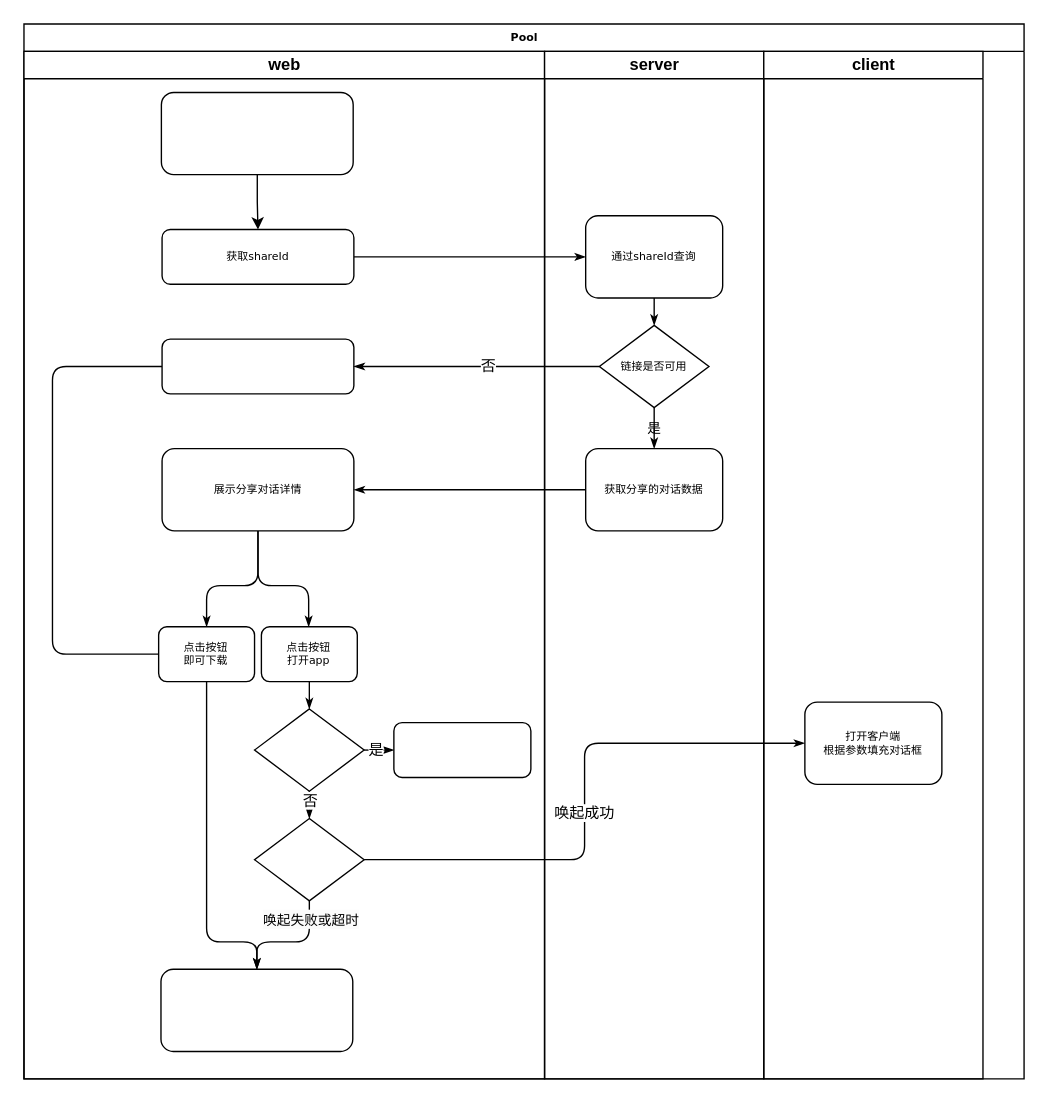
This 1048x1103 diagram has some shape labels left out. The shapes that lost their labels are listed below. From the top down, each one's centre as x and y in pixels, then its label:
At point 256,133: "入口链接 qianxun.vivo.com/share?shareId=xxx".
At point 257,366: "展示分享不可用页面提示".
At point 308,749: "是否在微信中".
At point 462,749: "展示提示 “使用浏览器打开”".
At point 308,859: "deeplink唤起 拼接问题".
At point 256,1009: "打开官网 qianxun.vivo.com iOS跳转应用商店".
